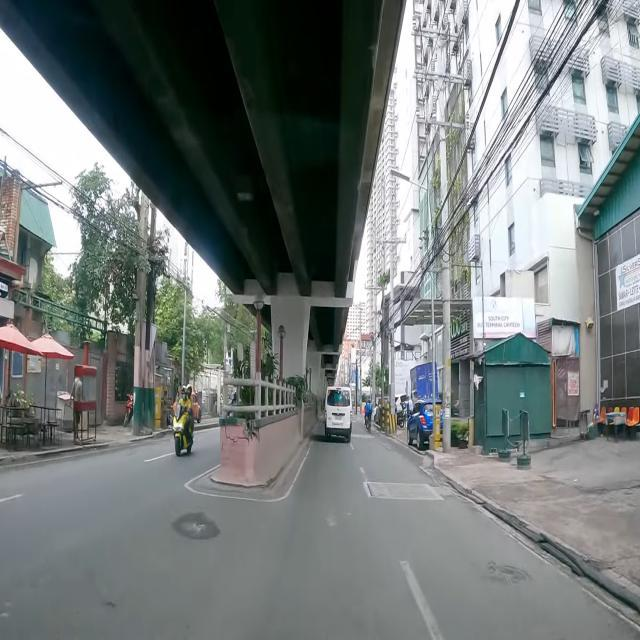bike: (368, 400, 372, 433), (364, 400, 368, 428)
car: (407, 397, 443, 449), (324, 386, 352, 442)
motorcycle: (173, 386, 194, 456), (124, 392, 134, 427), (396, 402, 406, 427)
truck: (411, 362, 434, 407)
